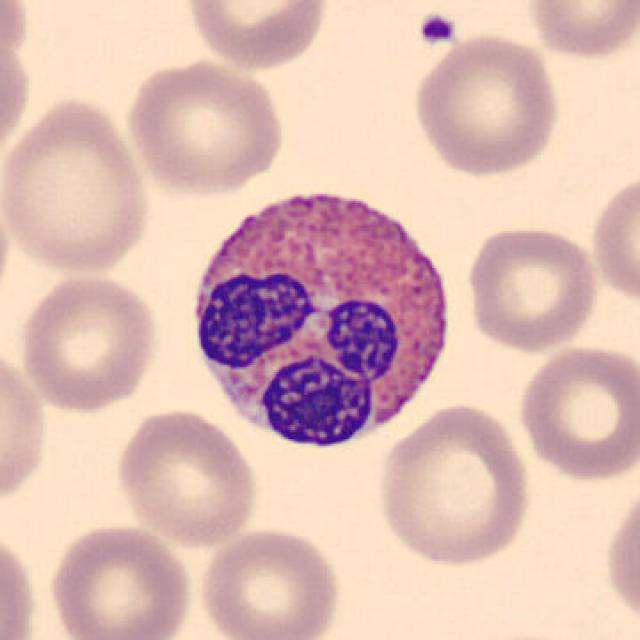Eosinophil: (180, 165, 466, 464)
Platelets: (414, 9, 460, 49)
RBC: (0, 92, 155, 278), (373, 400, 535, 570), (121, 54, 288, 198), (407, 30, 565, 180), (110, 404, 262, 548), (14, 270, 162, 416), (460, 222, 602, 354), (44, 520, 196, 640), (514, 340, 638, 485), (195, 523, 344, 640), (179, 0, 330, 72), (0, 338, 52, 518), (587, 166, 638, 312), (522, 0, 640, 63), (601, 474, 640, 635), (0, 10, 34, 180), (0, 522, 41, 640), (0, 0, 34, 90)
